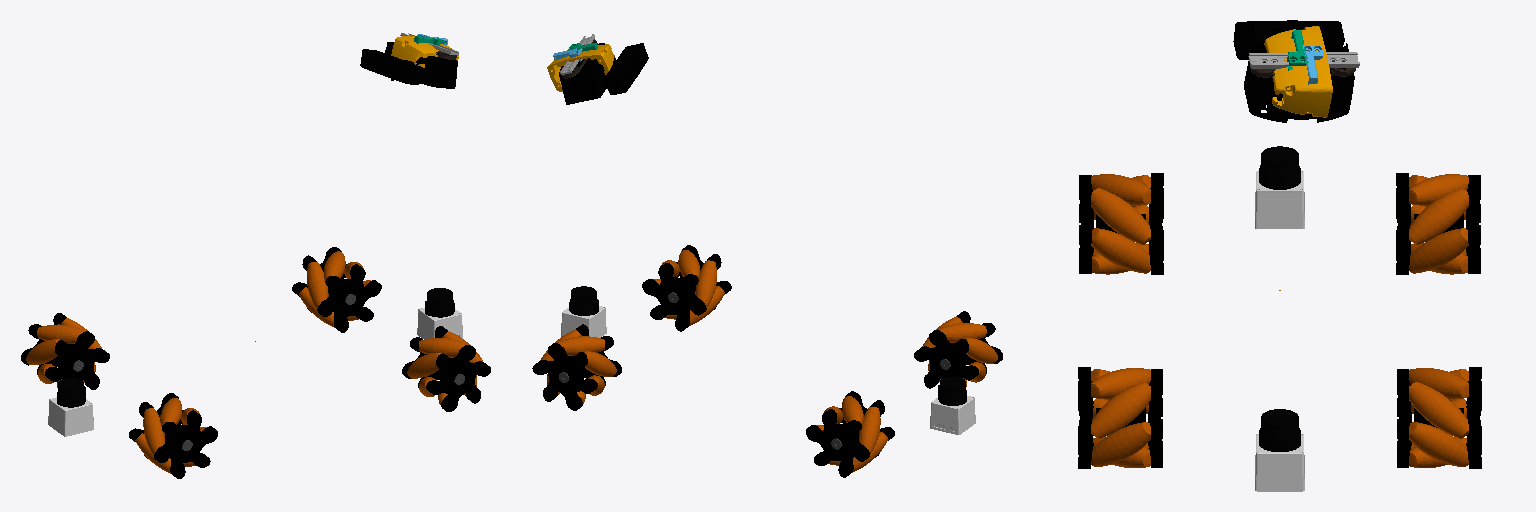
URDF robot description (youbot):
<?xml version="1.0" ?>
<!-- =================================================================================== -->
<!-- |    This document was autogenerated by xacro from [local-path]/wentz_catkin_ws/src/youbot_os/luh_youbot_description/robots/youbot.urdf.xacro | -->
<!-- |    EDITING THIS FILE BY HAND IS NOT RECOMMENDED                                 | -->
<!-- =================================================================================== -->
<robot name="youbot" xmlns:xacro="http://www.ros.org/wiki/xacro">
  &gt;

	
  <link name="base_footprint">
    <visual>
      <origin rpy="0 0 0" xyz="0 0 0"/>
      <geometry>
        <box size="0.001 0.001 0.001"/>
      </geometry>
      <material name="Red"/>
    </visual>
    <collision>
      <origin rpy="0 0 0" xyz="0 0 -0.05"/>
      <geometry>
        <box size="0.001 0.001 0.001"/>
      </geometry>
    </collision>
  </link>
  <joint name="base_footprint_joint" type="fixed">
    <origin rpy="0 0 0" xyz="0 0 0"/>
    <child link="base_link"/>
    <parent link="base_footprint"/>
  </joint>
  <link name="base_link">
    <inertial>
      <mass value="22.0"/>
      <origin xyz="0 0 0"/>
      <inertia ixx="5.652232699207" ixy="-0.009719934438" ixz="1.293988226423" iyy="5.669473158652" iyz="-0.007379583694" izz="3.683196351726"/>
    </inertial>
    <visual>
      <origin rpy="0 0 0" xyz="0 0 0"/>
      <geometry>
        <mesh filename="model://luh_youbot_description/meshes/youbot_base/base.dae"/>
      </geometry>
      <material name="Black"/>
    </visual>
    <collision>
      <origin rpy="0 0 0" xyz="0 0 0"/>
      <geometry>
        <mesh filename="model://luh_youbot_description/meshes/youbot_base/base_convex.dae"/>
      </geometry>
    </collision>
  </link>
  <joint name="base_laser_front_hokuyo_urg04_laser_joint" type="fixed">
    <axis xyz="0 1 0"/>
    <origin rpy="0 0 0" xyz="0.309 0 -0.03"/>
    <parent link="base_link"/>
    <child link="base_laser_front_link"/>
  </joint>
  <link name="base_laser_front_link" type="laser">
    <inertial>
      <mass value="0.16"/>
      <origin rpy="0 0 0" xyz="0 0 0"/>
      <inertia ixx="0.1" ixy="0" ixz="0" iyy="0.1" iyz="0" izz="0.1"/>
    </inertial>
    <visual>
      <origin rpy="0 0 0" xyz="0 0 0"/>
      <geometry>
        <mesh filename="package://luh_youbot_description/meshes/sensors/hokuyo.dae"/>
      </geometry>
    </visual>
    <collision>
      <origin rpy="0 0 0" xyz="0 0 0"/>
      <geometry>
        <mesh filename="package://luh_youbot_description/meshes/sensors/hokuyo_convex.dae"/>
      </geometry>
    </collision>
  </link>
  <gazebo reference="base_laser_front_link">
    <sensor name="base_laser_front" type="ray">
      <pose>0 0 0 0 0 0</pose>
      <ray>
        <scan>
          <horizontal>
            <samples>640</samples>
            <resolution>1</resolution>
            <min_angle>-1.570000</min_angle>
            <max_angle>1.570000</max_angle>
          </horizontal>
        </scan>
        <range>
          <min>0.050000</min>
          <max>5.600000</max>
          <resolution>0.360000</resolution>
        </range>
      </ray>
      <always_on>true</always_on>
      <update_rate>10</update_rate>
      <visualize>false</visualize>
      <plugin filename="libgazebo_ros_laser.so" name="gazebo_ros_laser">
        <gaussianNoise>0.02</gaussianNoise>
        <alwaysOn>true</alwaysOn>
        <hokuyoMinIntensity>101</hokuyoMinIntensity>
        <updateRate>10</updateRate>
        <topicName>scan</topicName>
        <frameName>/base_laser_front_link</frameName>
        <!--interface:laser name="gazebo_ros_${name}_iface" /-->
      </plugin>
    </sensor>
  </gazebo>
  <joint name="base_laser_back_hokuyo_urg04_laser_joint" type="fixed">
    <axis xyz="0 1 0"/>
    <origin rpy="0 0 3.14159265359" xyz="-0.309 0 -0.03"/>
    <parent link="base_link"/>
    <child link="base_laser_back_link"/>
  </joint>
  <link name="base_laser_back_link" type="laser">
    <inertial>
      <mass value="0.16"/>
      <origin rpy="0 0 0" xyz="0 0 0"/>
      <inertia ixx="0.1" ixy="0" ixz="0" iyy="0.1" iyz="0" izz="0.1"/>
    </inertial>
    <visual>
      <origin rpy="0 0 0" xyz="0 0 0"/>
      <geometry>
        <mesh filename="package://luh_youbot_description/meshes/sensors/hokuyo.dae"/>
      </geometry>
    </visual>
    <collision>
      <origin rpy="0 0 0" xyz="0 0 0"/>
      <geometry>
        <mesh filename="package://luh_youbot_description/meshes/sensors/hokuyo_convex.dae"/>
      </geometry>
    </collision>
  </link>
  <gazebo reference="base_laser_back_link">
    <sensor name="base_laser_back" type="ray">
      <pose>0 0 0 0 0 0</pose>
      <ray>
        <scan>
          <horizontal>
            <samples>640</samples>
            <resolution>1</resolution>
            <min_angle>-1.570000</min_angle>
            <max_angle>1.570000</max_angle>
          </horizontal>
        </scan>
        <range>
          <min>0.050000</min>
          <max>5.600000</max>
          <resolution>0.360000</resolution>
        </range>
      </ray>
      <always_on>true</always_on>
      <update_rate>10</update_rate>
      <visualize>false</visualize>
      <plugin filename="libgazebo_ros_laser.so" name="gazebo_ros_laser">
        <gaussianNoise>0.02</gaussianNoise>
        <alwaysOn>true</alwaysOn>
        <hokuyoMinIntensity>101</hokuyoMinIntensity>
        <updateRate>10</updateRate>
        <topicName>scan_back</topicName>
        <frameName>/base_laser_back_link</frameName>
        <!--interface:laser name="gazebo_ros_${name}_iface" /-->
      </plugin>
    </sensor>
  </gazebo>
  <!-- front left wheel -->
  <joint name="wheel_joint_fl" type="continuous">
    <origin rpy="0 0 0" xyz="0.228 0.158 -0.034"/>
    <axis xyz="0 1 0"/>
    <limit effort="30" velocity="10"/>
    <dynamics damping="0.0" friction="0.0"/>
    <safety_controller k_velocity="10.0"/>
    <parent link="base_link"/>
    <child link="wheel_link_fl"/>
  </joint>
  <link name="wheel_link_fl">
    <inertial>
      <mass value="0.4"/>
      <origin xyz="0 0 0"/>
      <inertia ixx="0.012411765597" ixy="-0.000711733678" ixz="0.00050272983" iyy="0.015218160428" iyz="-0.000004273467" izz="0.011763977943"/>
    </inertial>
    <visual>
      <origin rpy="0 0 0" xyz="0 0 0"/>
      <geometry>
        <mesh filename="model://luh_youbot_description/meshes/youbot_base/wheel1.dae"/>
      </geometry>
    </visual>
    <collision>
      <origin rpy="1.57079632679 0 0" xyz="0 0 0"/>
      <geometry>
        <cylinder length="0.07" radius="0.05"/>
      </geometry>
    </collision>
  </link>
  <!-- front right wheel -->
  <joint name="wheel_joint_fr" type="continuous">
    <origin rpy="0 0 0" xyz="0.228 -0.158 -0.034"/>
    <axis xyz="0 1 0"/>
    <limit effort="30" velocity="10"/>
    <dynamics damping="0.0" friction="0.0"/>
    <safety_controller k_velocity="10.0"/>
    <parent link="base_link"/>
    <child link="wheel_link_fr"/>
  </joint>
  <link name="wheel_link_fr">
    <inertial>
      <mass value="0.4"/>
      <origin xyz="0 0 0"/>
      <inertia ixx="0.012411765597" ixy="-0.000711733678" ixz="0.00050272983" iyy="0.015218160428" iyz="-0.000004273467" izz="0.011763977943"/>
    </inertial>
    <visual>
      <origin rpy="0 0 0" xyz="0 0 0"/>
      <geometry>
        <mesh filename="model://luh_youbot_description/meshes/youbot_base/wheel2.dae"/>
      </geometry>
    </visual>
    <collision>
      <origin rpy="1.57079632679 0 0" xyz="0 0 0"/>
      <geometry>
        <cylinder length="0.07" radius="0.05"/>
      </geometry>
    </collision>
  </link>
  <!-- back left wheel -->
  <joint name="wheel_joint_bl" type="continuous">
    <origin rpy="0 0 0" xyz="-0.228 0.158 -0.034"/>
    <axis xyz="0 1 0"/>
    <limit effort="30" velocity="10"/>
    <dynamics damping="0.0" friction="0.0"/>
    <safety_controller k_velocity="10.0"/>
    <parent link="base_link"/>
    <child link="wheel_link_bl"/>
  </joint>
  <link name="wheel_link_bl">
    <inertial>
      <mass value="0.4"/>
      <origin xyz="0 0 0"/>
      <inertia ixx="0.012411765597" ixy="-0.000711733678" ixz="0.00050272983" iyy="0.015218160428" iyz="-0.000004273467" izz="0.011763977943"/>
    </inertial>
    <visual>
      <origin rpy="0 0 0" xyz="0 0 0"/>
      <geometry>
        <mesh filename="model://luh_youbot_description/meshes/youbot_base/wheel2.dae"/>
      </geometry>
    </visual>
    <collision>
      <origin rpy="1.57079632679 0 0" xyz="0 0 0"/>
      <geometry>
        <cylinder length="0.07" radius="0.05"/>
      </geometry>
    </collision>
  </link>
  <!-- back right wheel -->
  <joint name="wheel_joint_br" type="continuous">
    <origin rpy="0 0 0" xyz="-0.228 -0.158 -0.034"/>
    <axis xyz="0 1 0"/>
    <limit effort="30" velocity="10"/>
    <dynamics damping="0.0" friction="0.0"/>
    <safety_controller k_velocity="10.0"/>
    <parent link="base_link"/>
    <child link="wheel_link_br"/>
  </joint>
  <link name="wheel_link_br">
    <inertial>
      <mass value="0.4"/>
      <origin xyz="0 0 0"/>
      <inertia ixx="0.012411765597" ixy="-0.000711733678" ixz="0.00050272983" iyy="0.015218160428" iyz="-0.000004273467" izz="0.011763977943"/>
    </inertial>
    <visual>
      <origin rpy="0 0 0" xyz="0 0 0"/>
      <geometry>
        <mesh filename="model://luh_youbot_description/meshes/youbot_base/wheel1.dae"/>
      </geometry>
    </visual>
    <collision>
      <origin rpy="1.57079632679 0 0" xyz="0 0 0"/>
      <geometry>
        <cylinder length="0.07" radius="0.05"/>
      </geometry>
    </collision>
  </link>
  <gazebo>
    <plugin filename="libyoubot_base_controller.so" name="base_controller">
      <commandTopic>gazebo/cmd_vel</commandTopic>
      <odometryTopic>odom</odometryTopic>
      <odometryFrame>odom</odometryFrame>
      <odometryRate>20.0</odometryRate>
      <robotBaseFrame>base_footprint</robotBaseFrame>
    </plugin>
  </gazebo>
  <gazebo reference="base_link">
    <!--  -->
    <sensor name="youbot_base_bumper" type="contact">
      <always_on>true</always_on>
      <update_rate>30.0</update_rate>
      <contact>
        <collision>base_link_collision</collision>
      </contact>
      <plugin filename="libgazebo_ros_bumper.so" name="gripper_bumper">
        <bumperTopicName>youbot_base_bumper</bumperTopicName>
        <frameName>base_link</frameName>
      </plugin>
    </sensor>
  </gazebo>
  <!-- joint between arm_7_link and sdh_palm_link -->
  <joint name="plate_joint" type="fixed">
    <origin rpy="0 0 0" xyz="-0.039 0 0.064"/>
    <parent link="base_link"/>
    <child link="plate_link"/>
  </joint>
  <link name="plate_link">
    <inertial>
      <origin rpy="0 0 0" xyz="0 0 0"/>
      <mass value="1"/>
      <inertia ixx="0.01" ixy="0" ixz="0" iyy="0.01" iyz="0" izz="0.01"/>
    </inertial>
    <visual>
      <origin rpy="0 0 0" xyz="0 0 0"/>
      <geometry>
        <mesh filename="package://luh_youbot_description/meshes/youbot_plate/plate.dae"/>
      </geometry>
      <material name="DarkGrey"/>
    </visual>
    <collision>
      <origin rpy="0 0 0" xyz="0 0 0"/>
      <geometry>
        <mesh filename="package://luh_youbot_description/meshes/youbot_plate/plate_convex.dae"/>
      </geometry>
    </collision>
  </link>
  <!-- extensions -->
  <!-- joint between base_link and arm_0_link -->
  <joint name="arm_joint_0" type="fixed">
    <origin rpy="0 0 0.576" xyz="0.258 0 0.066"/>
    <parent link="base_link"/>
    <child link="arm_link_0"/>
    <!--without Dynamics maybe causes jittering-->
    <dynamics damping="1" friction="1"/>
  </joint>
  <joint name="arm_joint_origin" type="fixed">
    <origin rpy="0 0 0" xyz="0.024 0 0.0"/>
    <parent link="arm_link_0"/>
    <child link="arm_origin"/>
  </joint>
  <link name="arm_origin"/>
  <link name="arm_link_0">
    <inertial>
      <origin rpy="0 0 0" xyz="0 0 0"/>
      <!--<mass value="${link_0_mass}"/>-->
      <mass value="0.845"/>
      <inertia ixx="0.01" ixy="0" ixz="0" iyy="0.01" iyz="0" izz="0.01"/>
    </inertial>
    <visual>
      <origin rpy="0 0 0" xyz="0 0 0"/>
      <geometry>
        <mesh filename="model://luh_youbot_description/meshes/youbot_arm/arm0.dae"/>
      </geometry>
    </visual>
    <collision>
      <origin rpy="0 0 0" xyz="0 0 0"/>
      <geometry>
        <mesh filename="model://luh_youbot_description/meshes/youbot_arm/arm0_convex.dae"/>
      </geometry>
    </collision>
  </link>
  <!-- joint between arm_0_link and arm_1_link -->
  <joint name="arm_joint_1" type="revolute">
    <origin rpy="0 0 2.96705972839" xyz="0.024 0 0.096"/>
    <parent link="arm_link_0"/>
    <child link="arm_link_1"/>
    <axis xyz="0 0 -1"/>
    <dynamics damping="1" friction="1"/>
    <limit effort="9.5" lower="0" upper="5.89921287174" velocity="1.57079632679"/>
    <safety_controller k_position="20" k_velocity="1.51197195937" soft_lower_limit="0.001" soft_upper_limit="5.89821287174"/>
  </joint>
  <link name="arm_link_1">
    <inertial>
      <!--See if this cause arm-jittering -->
      <!--<mass value="${link_1_mass}"/>-->
      <mass value="2.412"/>
      <!-- looks like this is not loaded try with default-->
      <!--<xacro:link_1_inertia_tensor />-->
      <inertia ixx="0.003863" ixy="-0.000979" ixz="0.000000" iyy="0.006196" iyz="0.000000" izz="0.006369"/>
    </inertial>
    <visual>
      <origin rpy="0 0 0" xyz="0 0 0"/>
      <geometry>
        <mesh filename="model://luh_youbot_description/meshes/youbot_arm/arm1.dae"/>
      </geometry>
    </visual>
    <collision>
      <origin rpy="0 0 0" xyz="0 0 0"/>
      <geometry>
        <mesh filename="model://luh_youbot_description/meshes/youbot_arm/arm1_convex.dae"/>
      </geometry>
    </collision>
  </link>
  <!-- joint between arm_1_link and arm_2_link -->
  <joint name="arm_joint_2" type="revolute">
    <origin rpy="0 -1.1344640138 0" xyz="0.033 0 0.019"/>
    <parent link="arm_link_1"/>
    <child link="arm_link_2"/>
    <axis xyz="0 1 0"/>
    <dynamics damping="1" friction="1"/>
    <limit effort="9.5" lower="0" upper="2.70526034059" velocity="1.57079632679"/>
    <safety_controller k_position="20" k_velocity="6.04788783749" soft_lower_limit="0.001" soft_upper_limit="2.70426034059"/>
  </joint>
  <link name="arm_link_2">
    <inertial>
      <!--See if this cause arm-jittering -->
      <!--<mass value="${link_2_mass}"/>-->
      <mass value="1.155"/>
      <!--<xacro:link_2_inertia_tensor />-->
      <inertia ixx="0.000823" ixy="0.000000" ixz="-0.000000" iyy="0.004447" iyz="0.000000" izz="0.004439"/>
    </inertial>
    <visual>
      <origin rpy="0 0 0" xyz="0 -0.032 0.078"/>
      <geometry>
        <mesh filename="model://luh_youbot_description/meshes/youbot_arm/arm2.dae"/>
      </geometry>
      <material name="Orange"/>
    </visual>
    <collision>
      <origin rpy="0 0 0" xyz="0 -0.032 0.078"/>
      <geometry>
        <mesh filename="model://luh_youbot_description/meshes/youbot_arm/arm2_convex.dae"/>
      </geometry>
    </collision>
  </link>
  <!-- joint between arm_2_link and arm_3_link -->
  <joint name="arm_joint_3" type="revolute">
    <origin rpy="0 2.54818070791 0" xyz="0.000 0.000 0.155"/>
    <parent link="arm_link_2"/>
    <child link="arm_link_3"/>
    <axis xyz="0 1 0"/>
    <dynamics damping="1" friction="1"/>
    <limit effort="6" lower="-5.18362787842" upper="0" velocity="1.57079632679"/>
    <safety_controller k_position="20" k_velocity="50" soft_lower_limit="-5.18262787842" soft_upper_limit="-0.001"/>
  </joint>
  <link name="arm_link_3">
    <inertial>
      <!--See if this cause arm-jittering -->
      <!--<mass value="${link_3_mass}"/>-->
      <mass value="0.934"/>
      <!--<xacro:link_3_inertia_tensor />-->
      <inertia ixx="0.002459" ixy="0.000000" ixz="0.000000" iyy="0.002571" iyz="-0.000000" izz="0.000535"/>
    </inertial>
    <visual>
      <origin rpy="0 0 0" xyz="0.000 0.028 0.079"/>
      <geometry>
        <mesh filename="model://luh_youbot_description/meshes/youbot_arm/arm3.dae"/>
      </geometry>
      <material name="Orange"/>
    </visual>
    <collision>
      <origin rpy="0 0 0" xyz="0.000 0.028 0.079"/>
      <geometry>
        <mesh filename="model://luh_youbot_description/meshes/youbot_arm/arm3_convex.dae"/>
      </geometry>
    </collision>
  </link>
  <!-- joint between arm_3_link and arm_4_link -->
  <joint name="arm_joint_4" type="revolute">
    <origin rpy="0 -1.78896248329 0" xyz="0.000 0.000 0.135"/>
    <parent link="arm_link_3"/>
    <child link="arm_link_4"/>
    <axis xyz="0 1 0"/>
    <dynamics damping="1" friction="1"/>
    <limit effort="2" lower="0" upper="3.57792496659" velocity="1.57079632679"/>
    <safety_controller k_position="20" k_velocity="100" soft_lower_limit="0" soft_upper_limit="3.57692496659"/>
  </joint>
  <link name="arm_link_4">
    <inertial>
      <!--See if this cause arm-jittering -->
      <!--<mass value="${link_4_mass}"/>-->
      <mass value="0.877"/>
      <!--<xacro:link_4_inertia_tensor />-->
      <inertia ixx="0.000869" ixy="0.000000" ixz="-0.000000" iyy="0.001173" iyz="-0.000231" izz="0.001091"/>
    </inertial>
    <visual>
      <origin rpy="0 0 0" xyz="0 -0.010 0.029"/>
      <geometry>
        <mesh filename="model://luh_youbot_description/meshes/youbot_arm/arm4.dae"/>
      </geometry>
      <material name="Orange"/>
    </visual>
    <collision>
      <origin rpy="0 0 0" xyz="0 -0.010 0.029"/>
      <geometry>
        <mesh filename="model://luh_youbot_description/meshes/youbot_arm/arm4_convex.dae"/>
      </geometry>
    </collision>
  </link>
  <!-- joint between arm_4_link and arm_5_link -->
  <joint name="arm_joint_5" type="revolute">
    <origin rpy="0 0 2.92342649709" xyz="-0.002 0 0.130"/>
    <parent link="arm_link_4"/>
    <child link="arm_link_5"/>
    <axis xyz="0 0 -1"/>
    <dynamics damping="1" friction="1"/>
    <limit effort="1" lower="0" upper="5.84685299418" velocity="1.57079632679"/>
    <safety_controller k_position="20" k_velocity="100" soft_lower_limit="0" soft_upper_limit="5.84585299418"/>
  </joint>
  <link name="arm_link_5">
    <inertial>
      <!--See if this cause arm-jittering -->
      <!--<mass value="${link_5_mass}"/>-->
      <mass value="0.251"/>
      <!--<xacro:link_5_inertia_tensor />-->
      <inertia ixx="0.000280" ixy="0.000000" ixz="0.000000" iyy="0.000339" iyz="0.000000" izz="0.000119"/>
    </inertial>
    <visual>
      <origin rpy="0 0 0" xyz="0.003 0 -0.034"/>
      <geometry>
        <mesh filename="model://luh_youbot_description/meshes/youbot_arm/arm5_new.dae"/>
      </geometry>
    </visual>
    <collision>
      <origin rpy="0 0 0" xyz="0.003 0 -0.034"/>
      <geometry>
        <mesh filename="model://luh_youbot_description/meshes/youbot_arm/arm5_new_convex.dae"/>
      </geometry>
    </collision>
  </link>
  <gazebo>
    <plugin filename="libyoubot_arm_controller.so" name="arm_controller">
      <namespace>gazebo</namespace>
    </plugin>
  </gazebo>
  <!-- joint between arm_7_link and sdh_palm_link -->
  <joint name="gripper_palm_joint" type="fixed">
    <origin rpy="0 0 0" xyz="0 0 0"/>
    <parent link="arm_link_5"/>
    <child link="gripper_palm_link"/>
  </joint>
  <link name="gripper_palm_link">
    <inertial>
      <origin rpy="0 0 0" xyz="0 0 0"/>
      <mass value="0.1"/>
      <inertia ixx="0.01" ixy="0" ixz="0" iyy="0.01" iyz="0" izz="0.01"/>
    </inertial>
    <visual>
      <origin rpy="0 -1.57079632679 1.57079632679" xyz="0 0 -0.0139"/>
      <geometry>
        <mesh filename="package://luh_youbot_description/meshes/youbot_gripper/palm.dae"/>
      </geometry>
    </visual>
    <collision>
      <origin rpy="0 0 0" xyz="0.003 0 0.01"/>
      <geometry>
        <mesh filename="package://luh_youbot_description/meshes/youbot_gripper/palm_convex.dae"/>
      </geometry>
    </collision>
  </link>
  <joint name="gripper_finger_joint_l" type="prismatic">
    <origin rpy="0 0 3.14159265359" xyz="0.004 0.007 0.0115"/>
    <parent link="gripper_palm_link"/>
    <child link="gripper_finger_link_l"/>
    <axis xyz="0 -1 0"/>
    <dynamics damping="1.0" friction="1.0"/>
    <limit effort="1" lower="0" upper="0.03" velocity="0.1"/>
    <safety_controller k_position="20" k_velocity="25" soft_lower_limit="0.001" soft_upper_limit="0.0295"/>
  </joint>
  <link name="gripper_finger_link_l">
    <inertial>
      <origin rpy="0 0 0" xyz="0 0.00 0"/>
      <mass value="0.01"/>
      <inertia ixx="0.01" ixy="0" ixz="0" iyy="0.01" iyz="0" izz="0.01"/>
    </inertial>
    <visual>
      <origin rpy="0 -1.57079632679 0" xyz="0 0 0"/>
      <!---->
      <geometry>
        <mesh filename="package://luh_youbot_description/meshes/youbot_gripper/finger.dae"/>
      </geometry>
    </visual>
    <collision>
      <origin rpy="0 -1.57079632679 0" xyz="0 0 0"/>
      <geometry>
        <mesh filename="package://luh_youbot_description/meshes/youbot_gripper/finger_convex.dae"/>
      </geometry>
    </collision>
  </link>
  <joint name="gripper_finger_joint_r" type="prismatic">
    <origin rpy="0 0 0" xyz="0.004 -0.007 0.0115"/>
    <parent link="gripper_palm_link"/>
    <child link="gripper_finger_link_r"/>
    <axis xyz="0 -1 0"/>
    <dynamics damping="1.0" friction="1.0"/>
    <limit effort="1" lower="0" upper="0.03" velocity="0.1"/>
    <safety_controller k_position="20" k_velocity="25" soft_lower_limit="0.001" soft_upper_limit="0.0295"/>
  </joint>
  <link name="gripper_finger_link_r">
    <inertial>
      <origin rpy="0 0 0" xyz="0.000 -0.001 0"/>
      <mass value="0.01"/>
      <inertia ixx="0.01" ixy="0" ixz="0" iyy="0.01" iyz="0" izz="0.01"/>
    </inertial>
    <visual>
      <origin rpy="0 -1.57079632679 0" xyz="0 0 0"/>
      <!-- -->
      <geometry>
        <mesh filename="package://luh_youbot_description/meshes/youbot_gripper/finger.dae"/>
      </geometry>
    </visual>
    <collision>
      <origin rpy="0 -1.57079632679 0" xyz="0 0 0"/>
      <geometry>
        <mesh filename="package://luh_youbot_description/meshes/youbot_gripper/finger_convex.dae"/>
      </geometry>
    </collision>
  </link>
  <!-- coordinate frame on the tip of the robot's gripper -->
  <joint name="gripper_tip_joint" type="fixed">
    <origin rpy="0.0 -1.57079632679 0.0" xyz="0.000 0 0.09"/>
    <parent link="gripper_palm_link"/>
    <child link="gripper_tip"/>
  </joint>
  <link name="gripper_tip">
    <inertial>
      <mass value="0.001"/>
      <origin xyz="0 0 0"/>
      <inertia ixx="0.001" ixy="0.0" ixz="0.0" iyy="0.001" iyz="0.0" izz="0.001"/>
    </inertial>
  </link>
  <gazebo>
    <plugin filename="libyoubot_gripper_controller.so" name="gripper_controller">
      <namespace></namespace>
    </plugin>
  </gazebo>
  <!-- Kamera -->
  <!--xacro:include filename="$(find luh_youbot_description)/urdf/sensors/asus_xtion_camera.urdf.xacro" />

  <xacro:asus_xtion_camera name="camera" parent="arm_link_5" tilt="0.0">
    <origin xyz="-0.02 0 -0.04" rpy="0 -1.60 0" />

    <inertia ixx="0.1" ixy="0" ixz="0" iyy="0.1" iyz="0" izz="0.1" />

  </xacro:asus_xtion_camera-->
  <gazebo>
    <plugin filename="libyoubot_joint_state_publisher.so" name="youbot_joint_state_publisher">
      <robotNamespace>gazebo</robotNamespace>
      <updateRate>100.0</updateRate>
      <alwaysOn>true</alwaysOn>
    </plugin>
  </gazebo>
</robot>

--- What the picture shows (computed from the rendered views, not written in the file) ---
3 views of the same robot in one strip: view 1: azimuth 30°, elevation 25°; view 2: azimuth 150°, elevation 25°; view 3: azimuth 270°, elevation 25° (orthographic).
Robot: youbot — 20 links, 19 joints (5 revolute, 4 continuous, 2 prismatic, 8 fixed); root link base_footprint; default pose: every joint at zero.
Links seen in each view (by area): view 1: wheel_link_br, wheel_link_fr, wheel_link_fl, wheel_link_bl, arm_link_5, base_laser_back_link, base_laser_front_link, gripper_palm_link; view 2: wheel_link_fr, wheel_link_fl, wheel_link_bl, wheel_link_br, arm_link_5, base_laser_back_link, base_laser_front_link, gripper_palm_link; view 3: wheel_link_bl, wheel_link_br, wheel_link_fl, wheel_link_fr, arm_link_5, base_laser_front_link, base_laser_back_link, gripper_palm_link.
Boxes of the visible links, box(x1,y1,x2,y2) form: wheel_link_br: box(129, 393, 217, 478); wheel_link_fr: box(402, 326, 490, 411); wheel_link_fl: box(292, 247, 381, 332); wheel_link_bl: box(21, 313, 109, 389); arm_link_5: box(360, 33, 458, 88); base_laser_back_link: box(48, 378, 93, 436); base_laser_front_link: box(417, 288, 462, 339); gripper_palm_link: box(391, 36, 458, 67); wheel_link_fr: box(642, 245, 731, 331); wheel_link_fl: box(532, 324, 621, 410); wheel_link_bl: box(806, 391, 894, 477); wheel_link_br: box(914, 311, 1002, 388); arm_link_5: box(559, 34, 648, 104); base_laser_back_link: box(930, 376, 975, 434); base_laser_front_link: box(561, 286, 606, 337); gripper_palm_link: box(547, 44, 614, 91); wheel_link_bl: box(1396, 173, 1480, 274); wheel_link_br: box(1079, 173, 1163, 274); wheel_link_fl: box(1397, 367, 1481, 468); wheel_link_fr: box(1078, 367, 1162, 468); arm_link_5: box(1233, 20, 1359, 122); base_laser_front_link: box(1255, 409, 1304, 491); base_laser_back_link: box(1255, 146, 1304, 228); gripper_palm_link: box(1264, 26, 1332, 117).
Size in the robot's own frame: 0.6759 by 0.4009 by 0.4998 metres.
Meshes: 13 distinct files referenced, 10 mesh visuals loaded (6 Collada DAE); not drawn: 7 (reference not matched to a file when rendering).
